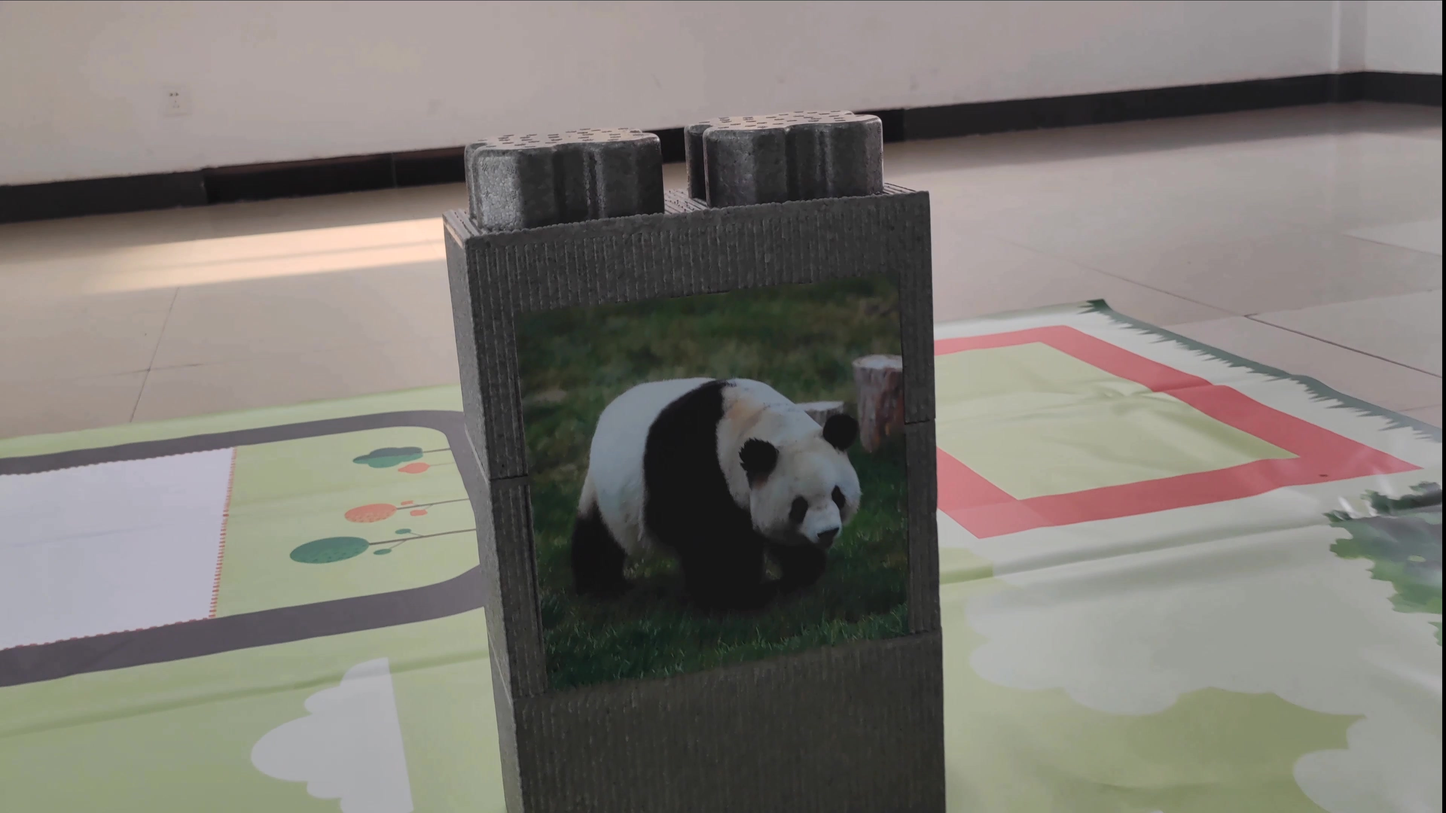panda: (536, 365, 878, 614)
